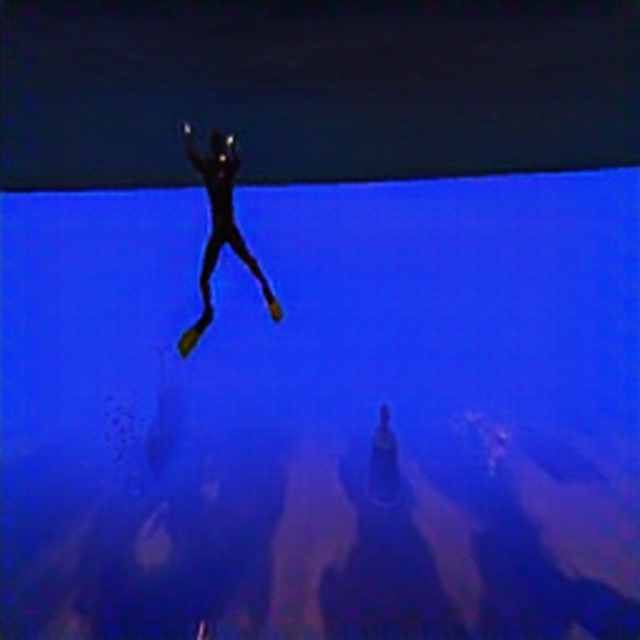diver: (182, 118, 283, 327)
